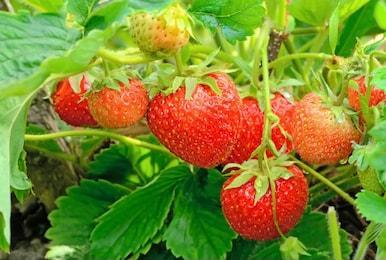Fresa: (144, 68, 242, 169), (217, 154, 312, 245)
